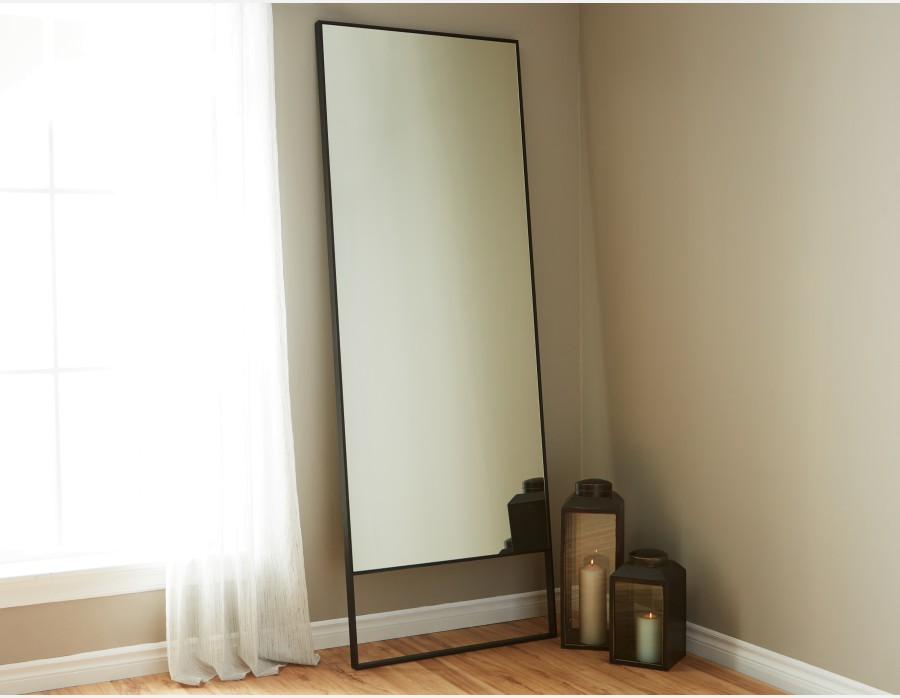Nonrec_Glass: (307, 14, 564, 666)
